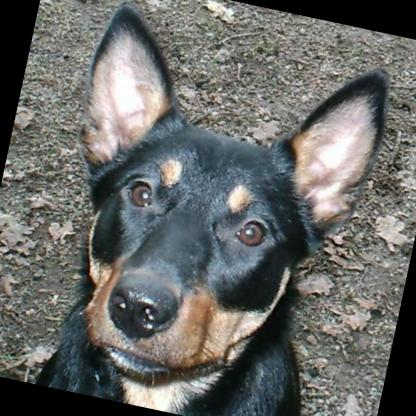kelpie: (17, 0, 403, 416)
